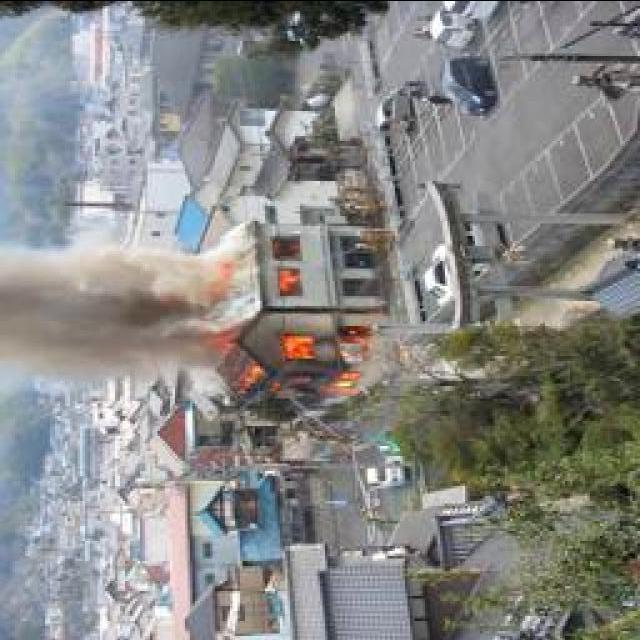Fire: (254, 330, 368, 404), (278, 263, 303, 304)
